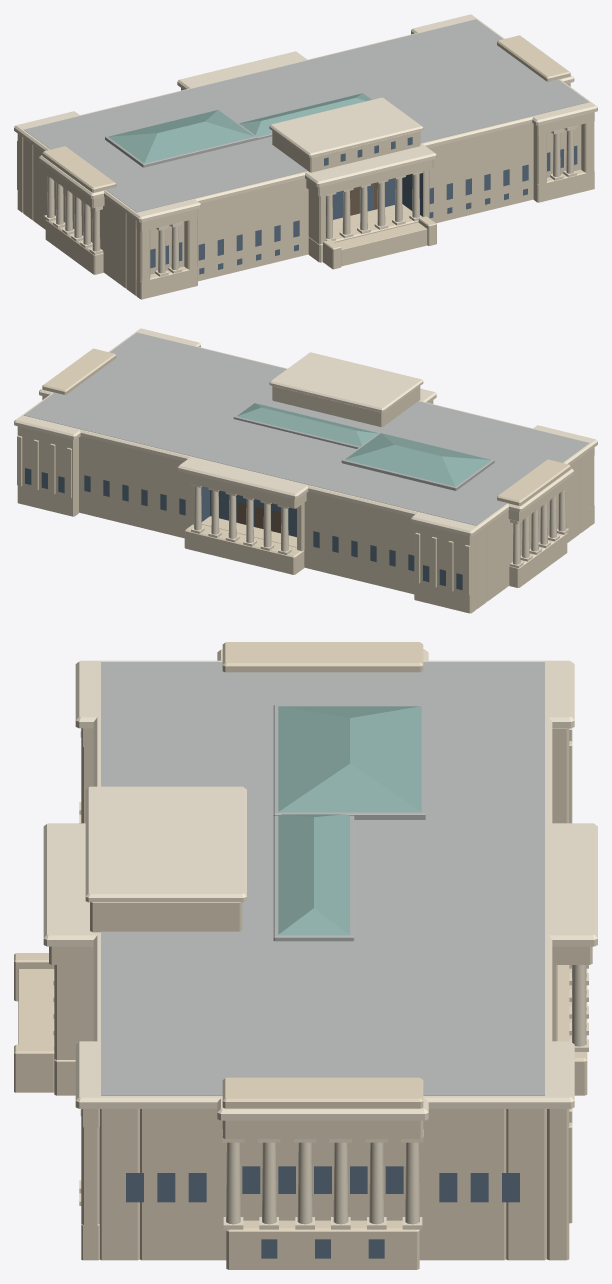
Rendered from kc-nelson-atkins-museum.glb.
The picture shows the model from 3 angles, top to bottom: view 1: azimuth 30°, elevation 25°; view 2: azimuth 150°, elevation 25°; view 3: azimuth 270°, elevation 25°; orthographic projection. The views are drawn at different scales.
Visible parts, largest first — view 1: Nelson-Atkins Museum of Art; view 2: Nelson-Atkins Museum of Art; view 3: Nelson-Atkins Museum of Art.
Part boxes in pixels (left/top/right/bottom): Nelson-Atkins Museum of Art: left=14, top=14, right=597, bottom=299; Nelson-Atkins Museum of Art: left=14, top=328, right=597, bottom=613; Nelson-Atkins Museum of Art: left=14, top=642, right=597, bottom=1269.
Size of the model in its own units: 122 by 24.95 by 65.2.
